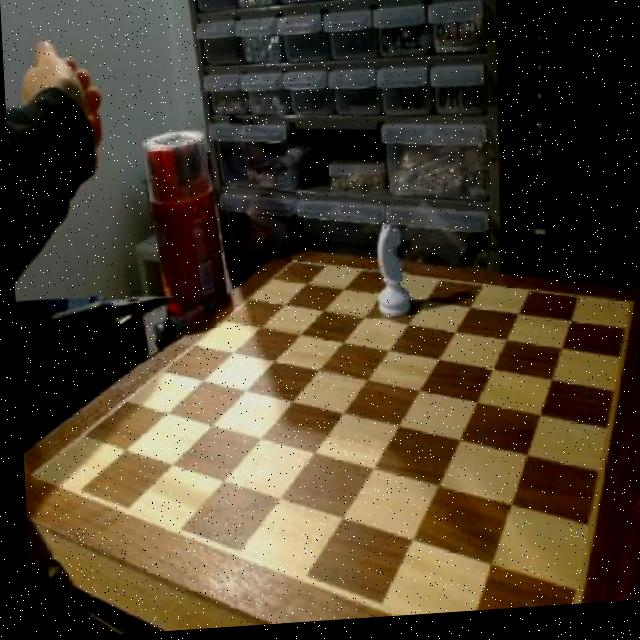white-king: (366, 229, 410, 329)
